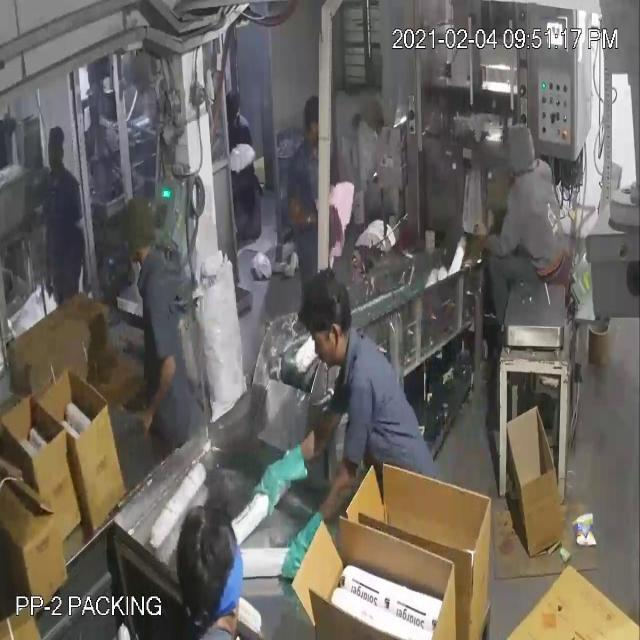No_Gloves: (44, 54, 306, 551)
